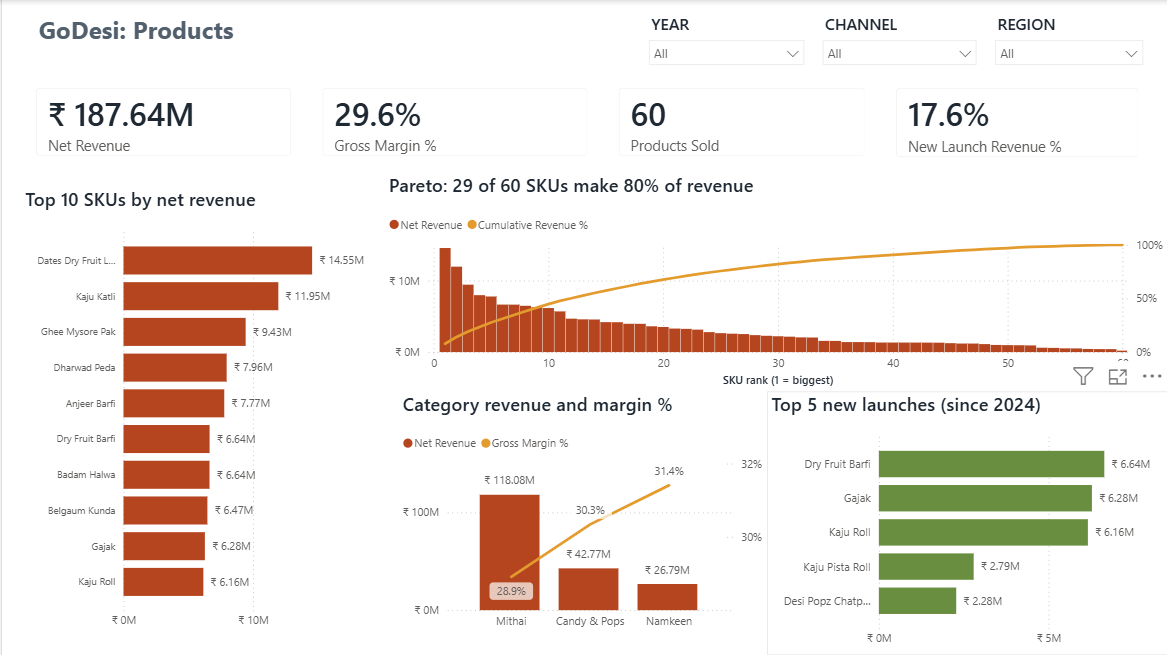

This screenshot's page, from the dashboard's own definition file:
{"tool":"powerbi","page":{"name":"Products","canvas":[1280,720],"ordinal":1},"visuals":[{"type":"slicer","fields":{"Values":["DIM_DATE.YEAR"]},"box":[699.8,9.6,190.7,70],"z":0},{"type":"slicer","fields":{"Values":["DIM_CHANNEL.CHANNEL"]},"box":[890.6,9.6,189.4,70],"z":1000},{"type":"slicer","fields":{"Values":["DIM_GEOGRAPHY.REGION"]},"box":[1079.9,9.6,182.5,70],"z":2000},{"type":"cardVisual","fields":{"Data":["FCT_ORDER_ITEMS.Net Revenue"]},"box":[20.6,79.6,314.2,109.8],"z":3000},{"type":"cardVisual","fields":{"Data":["FCT_ORDER_ITEMS.Products Sold"]},"box":[660,79.6,304.6,109.8],"z":4000},{"type":"cardVisual","fields":{"Data":["FCT_ORDER_ITEMS.New Launch Revenue %"]},"box":[965,80,300,110],"z":5000},{"type":"cardVisual","fields":{"Data":["FCT_ORDER_ITEMS.Gross Margin %"]},"box":[334.8,79.6,325.2,109.8],"z":6000},{"type":"textbox","box":[20,10,600,50],"z":7000},{"type":"clusteredBarChart","title":"Top 10 SKUs by net revenue","fields":{"Category":["DIM_PRODUCTS.PRODUCT_NAME"],"Y":["FCT_ORDER_ITEMS.Net Revenue"]},"box":[20.6,205,400,495],"z":8000},{"type":"lineClusteredColumnComboChart","title":"Pareto: 29 of 60 SKUs make 80% of revenue","fields":{"Y":["FCT_ORDER_ITEMS.Net Revenue"],"Y2":["FCT_ORDER_ITEMS.Cumulative Revenue %"],"Category":["DIM_PRODUCTS.Revenue Rank"]},"box":[419.9,189.4,860.4,240.1],"z":9000},{"type":"lineClusteredColumnComboChart","title":"Category revenue and margin %","fields":{"Category":["FCT_ORDER_ITEMS.CATEGORY"],"Y":["FCT_ORDER_ITEMS.Net Revenue"],"Y2":["FCT_ORDER_ITEMS.Gross Margin %"]},"box":[435,429.5,404.8,270.3],"z":10000},{"type":"clusteredBarChart","title":"Top 5 new launches (since 2024)","fields":{"Category":["DIM_PRODUCTS.PRODUCT_NAME"],"Y":["FCT_ORDER_ITEMS.Net Revenue"]},"box":[839.8,429.5,440.5,289.5],"z":11000}]}

Visuals, with their boxes in screenshot pixels (x1, y1, x2, y2), scaled from the page's 1280x720 canvas onto the 1167x655 screenshot:
slicer - DIM_DATE.YEAR: (638, 9, 812, 72)
slicer - DIM_CHANNEL.CHANNEL: (812, 9, 985, 72)
slicer - DIM_GEOGRAPHY.REGION: (985, 9, 1151, 72)
cardVisual - FCT_ORDER_ITEMS.Net Revenue: (19, 72, 305, 172)
cardVisual - FCT_ORDER_ITEMS.Products Sold: (602, 72, 879, 172)
cardVisual - FCT_ORDER_ITEMS.New Launch Revenue %: (880, 73, 1153, 173)
cardVisual - FCT_ORDER_ITEMS.Gross Margin %: (305, 72, 602, 172)
textbox: (18, 9, 565, 55)
"Top 10 SKUs by net revenue" clusteredBarChart: (19, 186, 383, 637)
"Pareto: 29 of 60 SKUs make 80% of revenue" lineClusteredColumnComboChart: (383, 172, 1166, 391)
"Category revenue and margin %" lineClusteredColumnComboChart: (397, 391, 766, 637)
"Top 5 new launches (since 2024)" clusteredBarChart: (766, 391, 1166, 654)
